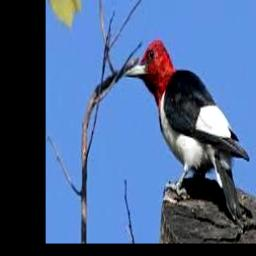Woodpecker: (124, 39, 249, 220)
